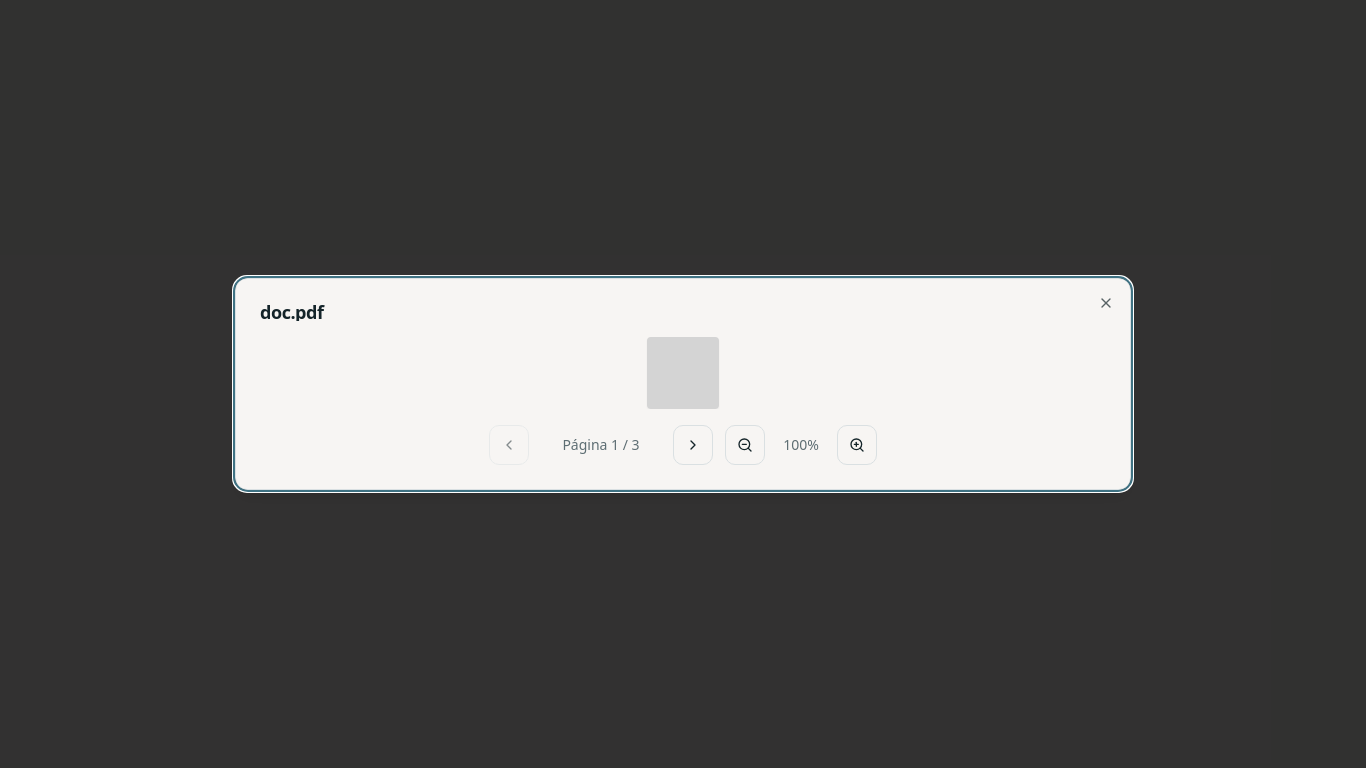
Test: PdfPreviewModal (forms) › navigates to the next page when the next button is clicked
This screenshot has width=1366, height=768.
Expected: the text "Página 1 / 3" is shown, [562,435,640,454]
Click the button named "Próxima página": (693, 445) [673,425,713,465]
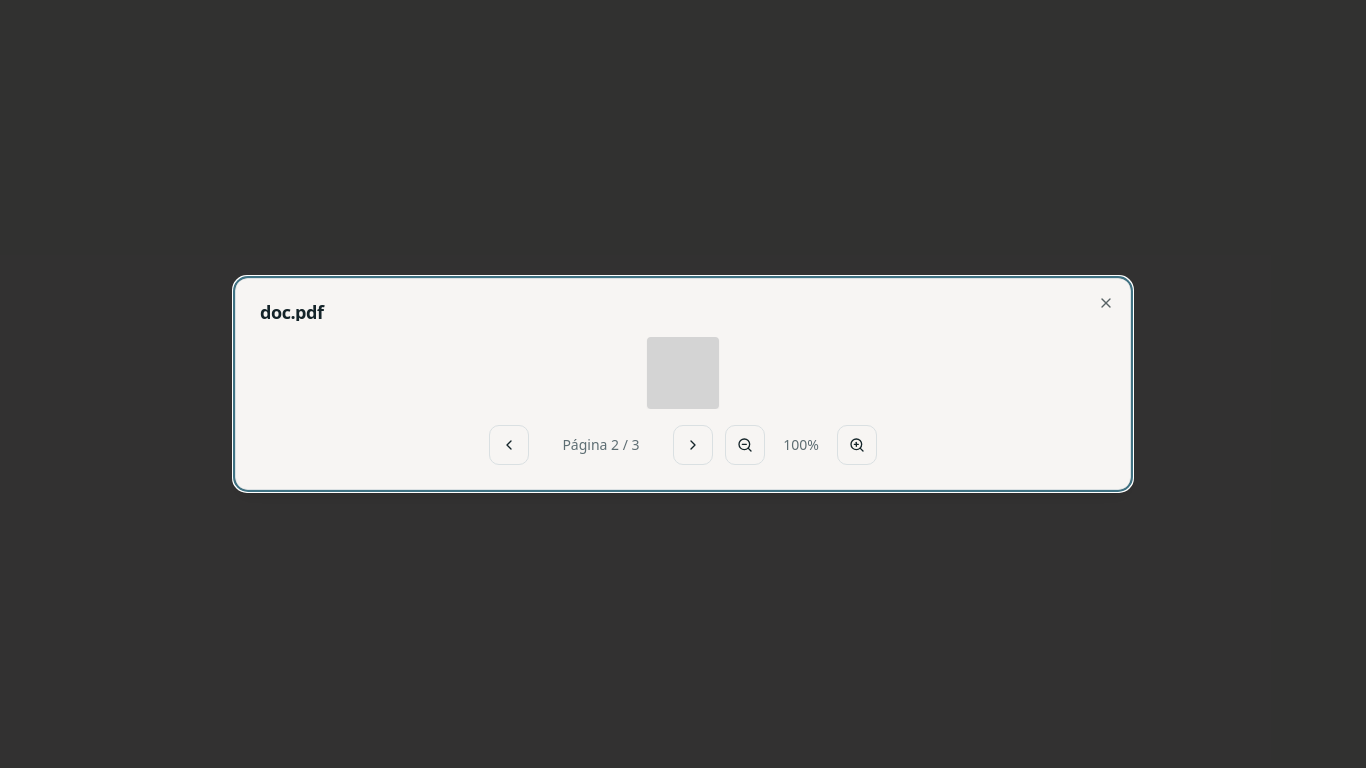
Expected: the text "Página 2 / 3" is shown, [562,435,640,454]
